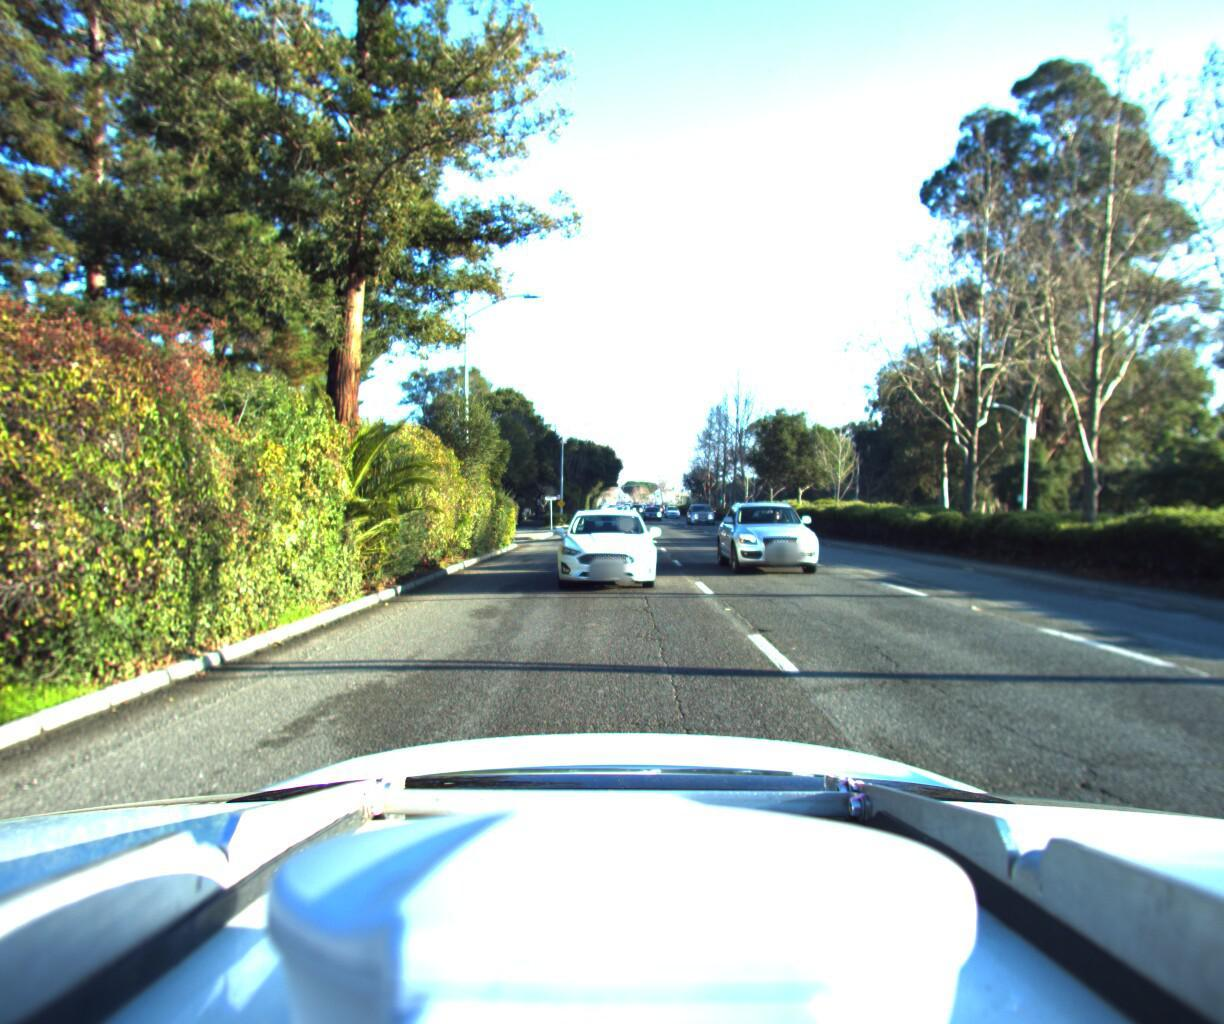car: (719, 493, 842, 580), (549, 500, 657, 587), (685, 496, 716, 519), (642, 499, 662, 515)
